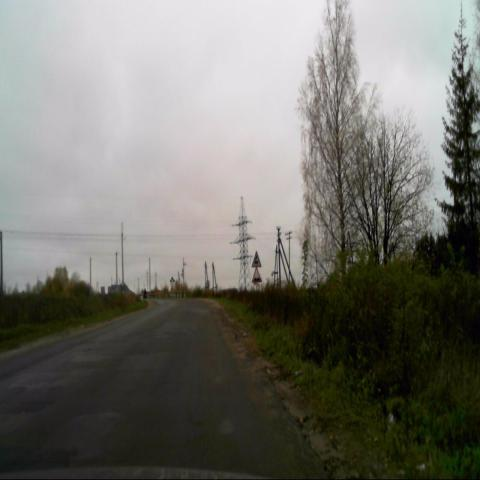1_16: (251, 266, 262, 284)
1_2: (252, 251, 262, 267)
